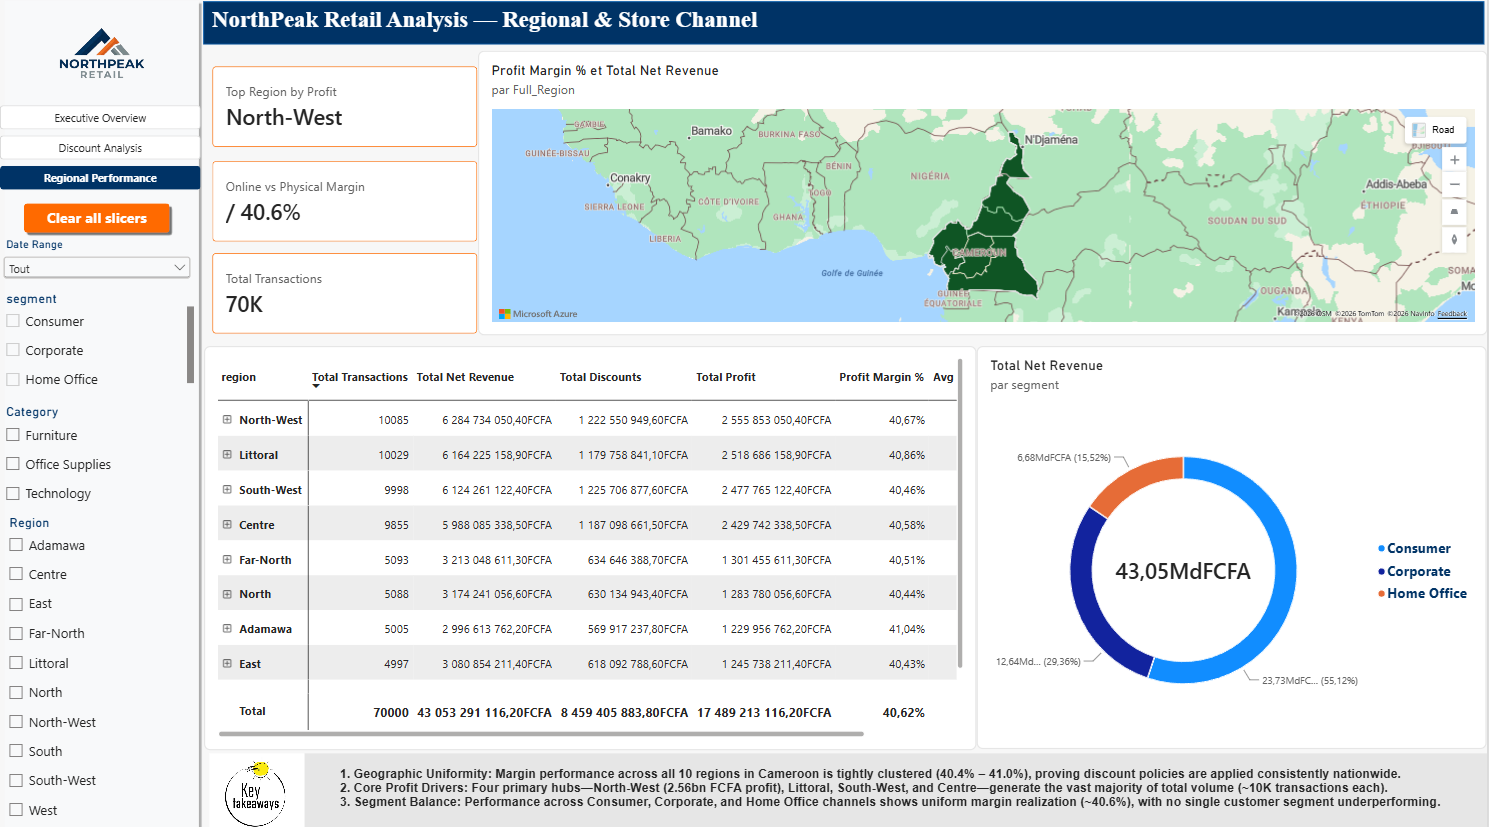

Layout of this report page (visuals, bound fields, positions):
{"tool":"powerbi","page":{"name":"Regional Performance","canvas":[1920,1080],"ordinal":2},"visuals":[{"type":"shape","box":[0,0,262.7,1080.6],"z":0},{"type":"shape","box":[262.3,6.6,1654.1,55.7],"z":1000},{"type":"textbox","title":"NorthPeak Retail Analysis — Regional & Store Channel Performance","box":[273.8,14.8,750.8,37.7],"z":2000},{"type":"cardVisual","fields":{"Data":["_Measures.Top Region by Profit"]},"box":[274.1,90.7,343.3,105],"z":3000},{"type":"cardVisual","fields":{"Data":["_Measures.Total Transactions"]},"box":[274.1,331.5,343.3,105],"z":4000},{"type":"cardVisual","fields":{"Data":["_Measures.Online vs Physical Margin"]},"box":[274.1,213,343.3,105],"z":5000},{"type":"azureMap","fields":{"Category":["Dim_Geography.Full_Region"]},"box":[617.1,70.5,1303.4,367.1],"z":6000},{"type":"pivotTable","fields":{"Rows":["Dim_Geography.region","Dim_Customer.segment"],"Values":["_Measures.Total Transactions","_Measures.Total Net Revenue","_Measures.Total Discounts","_Measures.Total Profit","_Measures.Profit Margin %","_Measures.Avg Discount Rate %"]},"box":[263.3,452.2,997.5,521.4],"z":7000},{"type":"slicer","fields":{"Values":["Dim_Geography.region"]},"box":[4,670.3,251.4,409.7],"z":8000},{"type":"slicer","fields":{"Values":["Dim_Product.category"]},"box":[0,528,171.6,142.3],"z":9000},{"type":"slicer","fields":{"Values":["Dim_Customer.segment"]},"box":[0,381.7,249.9,130.3],"z":10000},{"type":"slicer","fields":{"Values":["Dim_Date.full_date"]},"box":[0,312.6,250.6,58],"z":11000},{"type":"actionButton","box":[25.3,262,200,50],"z":12000},{"type":"pageNavigator","box":[0,141,259.4,111.7],"z":13000},{"type":"image","box":[4,6.7,255.4,134.3],"z":14000},{"type":"image","box":[270,977.6,123.7,102.4],"z":15000},{"type":"shape","box":[393.1,977.6,1526.9,102.4],"z":16000},{"type":"textbox","box":[438.9,994.9,1477.7,73.2],"z":17000},{"type":"donutChart","fields":{"Category":["Dim_Customer.segment"],"Y":["_Measures.Total Net Revenue"]},"box":[1261,452,659,521],"z":18000}]}

Visuals, with their boxes on the page's 1920x1080 design canvas (x1, y1, x2, y2). These are canvas units, not pixel positions in the 1489x827 screenshot, which may show the page scaled, cropped or inside an application window:
shape: (0,0,263,1081)
shape: (262,7,1916,62)
"NorthPeak Retail Analysis — Regional & Store Channel Performance" textbox: (274,15,1025,52)
cardVisual - _Measures.Top Region by Profit: (274,91,617,196)
cardVisual - _Measures.Total Transactions: (274,332,617,436)
cardVisual - _Measures.Online vs Physical Margin: (274,213,617,318)
azureMap - Dim_Geography.Full_Region: (617,70,1920,438)
pivotTable - Dim_Geography.region x Dim_Customer.segment: (263,452,1261,974)
slicer - Dim_Geography.region: (4,670,255,1080)
slicer - Dim_Product.category: (0,528,172,670)
slicer - Dim_Customer.segment: (0,382,250,512)
slicer - Dim_Date.full_date: (0,313,251,371)
actionButton: (25,262,225,312)
pageNavigator: (0,141,259,253)
image: (4,7,259,141)
image: (270,978,394,1080)
shape: (393,978,1920,1080)
textbox: (439,995,1917,1068)
donutChart - Dim_Customer.segment x _Measures.Total Net Revenue: (1261,452,1920,973)
